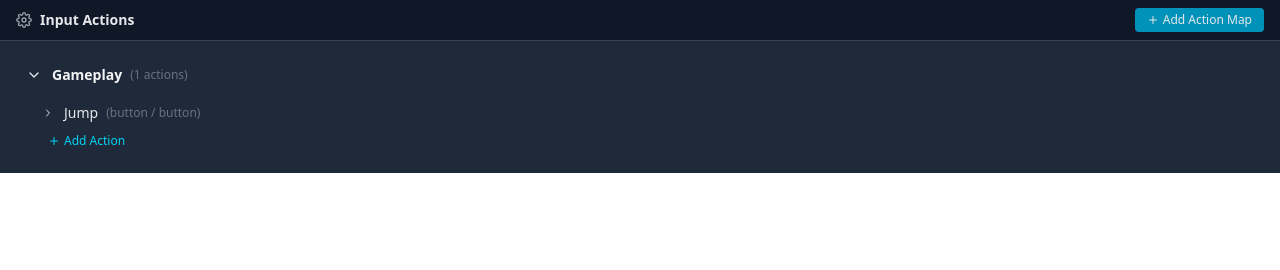
InputActionsEditor › Binding Management › should display existing bindings
# First expand the Jump action to see bindings
Step 1. Click the button without text next to "Jump" → {"x": 48, "y": 113}, box [40,105,56,121]
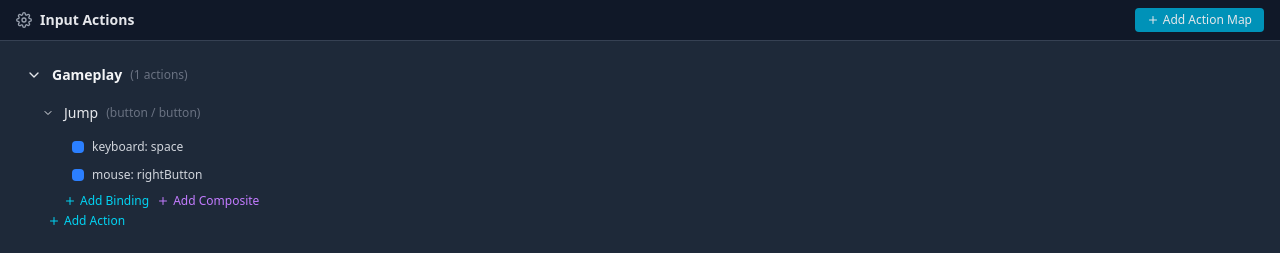
Expected: the text "keyboard: space" is shown, [92,139,183,155]
Expected: the text "mouse: rightButton" is shown, [92,167,202,183]
